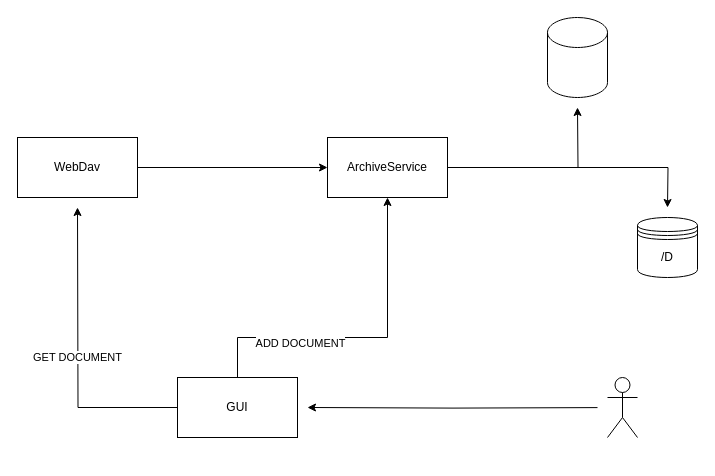
Image size: 715x476. Some labels were removed from this diagram. Here are the shapes that lost their labels. From the top down, the box of each, then its label:
(546, 16, 608, 98): MS SQL SERVER
(606, 376, 638, 438): Actor
